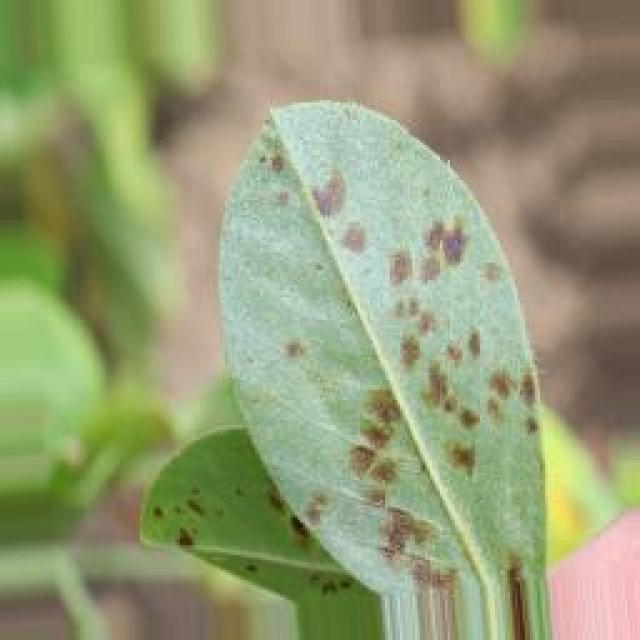Whitefly: (135, 77, 578, 590)
